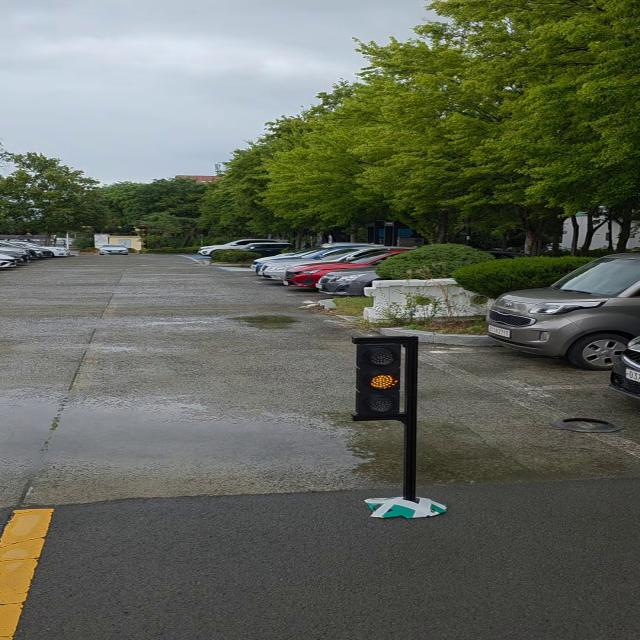yellow: (357, 335, 403, 420)
